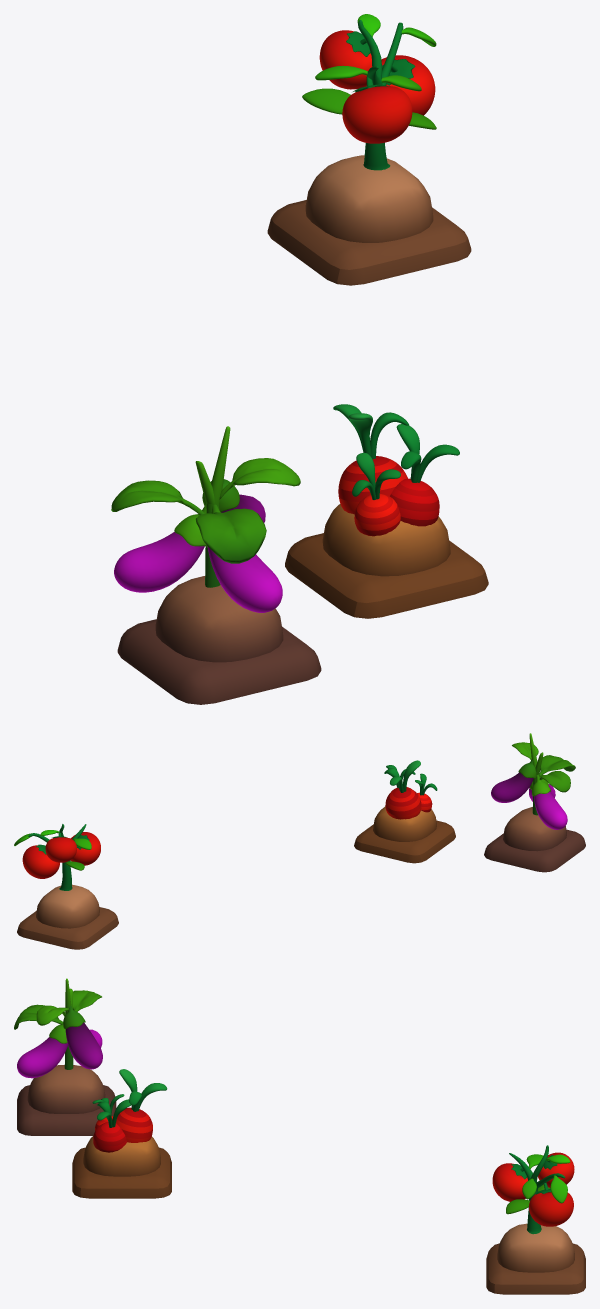
The model's file is 茄子番茄胡萝卜.fbx.
The picture shows the model from 3 angles, top to bottom: view 1: azimuth 30°, elevation 25°; view 2: azimuth 150°, elevation 25°; view 3: azimuth 270°, elevation 25°; orthographic projection. The views are drawn at different scales.
Visible parts, largest first — view 1: soil_045_NewAtlas_0_2, soil_041_NewAtlas_0_2, soil_035_NewAtlas_0_1, soil_034_NewAtlas_0_1, soil_040_NewAtlas_0_2, eggplant_high_002_NewAtlas_0_2, soil_044_NewAtlas_0_2, tomato_high_NewAtlas_0_1, eggplant_high_001_NewAtlas_0_2, tomato_high_002_NewAtlas_0_1, raddish_high_001_NewAtlas_0_2, raddish_high_NewAtlas_0_2 (+5 smaller); view 2: soil_034_NewAtlas_0_1, soil_045_NewAtlas_0_2, soil_041_NewAtlas_0_2, soil_035_NewAtlas_0_1, soil_040_NewAtlas_0_2, soil_044_NewAtlas_0_2, eggplant_high_002_NewAtlas_0_2, raddish_high_NewAtlas_0_2, eggplant_high_001_NewAtlas_0_2, eggplant_high_003_NewAtlas_0_2, tomato_high_NewAtlas_0_1, tomato_high_003_NewAtlas_0_1 (+3 smaller); view 3: soil_034_NewAtlas_0_1, soil_040_NewAtlas_0_2, soil_035_NewAtlas_0_1, soil_045_NewAtlas_0_2, soil_041_NewAtlas_0_2, soil_044_NewAtlas_0_2, tomato_high_NewAtlas_0_1, raddish_high_NewAtlas_0_2, eggplant_high_002_NewAtlas_0_2, eggplant_high_NewAtlas_0_2, eggplant_high_003_NewAtlas_0_2, tomato_high_003_NewAtlas_0_1 (+3 smaller).
Boxes of the visible parts, x1,y1,x2,y2 form: soil_045_NewAtlas_0_2: (285, 533, 488, 618); soil_041_NewAtlas_0_2: (117, 619, 321, 704); soil_035_NewAtlas_0_1: (267, 200, 471, 285); soil_034_NewAtlas_0_1: (305, 155, 433, 242); soil_040_NewAtlas_0_2: (155, 576, 283, 662); eggplant_high_002_NewAtlas_0_2: (111, 426, 300, 587); soil_044_NewAtlas_0_2: (322, 504, 450, 576); tomato_high_NewAtlas_0_1: (302, 14, 436, 170); eggplant_high_001_NewAtlas_0_2: (114, 504, 207, 592); tomato_high_002_NewAtlas_0_1: (342, 75, 412, 143); raddish_high_001_NewAtlas_0_2: (390, 424, 459, 526); raddish_high_NewAtlas_0_2: (333, 404, 408, 514); soil_034_NewAtlas_0_1: (36, 884, 99, 928); soil_045_NewAtlas_0_2: (354, 820, 455, 863); soil_041_NewAtlas_0_2: (484, 829, 585, 872); soil_035_NewAtlas_0_1: (17, 907, 118, 949); soil_040_NewAtlas_0_2: (503, 807, 566, 851); soil_044_NewAtlas_0_2: (373, 806, 436, 841); eggplant_high_002_NewAtlas_0_2: (512, 733, 575, 815); raddish_high_NewAtlas_0_2: (384, 760, 421, 819); eggplant_high_001_NewAtlas_0_2: (532, 775, 567, 829); eggplant_high_003_NewAtlas_0_2: (491, 759, 536, 802); tomato_high_NewAtlas_0_1: (14, 824, 91, 890); tomato_high_003_NewAtlas_0_1: (22, 844, 59, 878); soil_034_NewAtlas_0_1: (497, 1223, 574, 1272); soil_040_NewAtlas_0_2: (27, 1065, 105, 1113); soil_035_NewAtlas_0_1: (486, 1243, 585, 1294); soil_045_NewAtlas_0_2: (72, 1147, 171, 1198); soil_041_NewAtlas_0_2: (17, 1085, 116, 1135); soil_044_NewAtlas_0_2: (83, 1136, 160, 1176); tomato_high_NewAtlas_0_1: (506, 1145, 570, 1234); raddish_high_NewAtlas_0_2: (112, 1069, 167, 1142); eggplant_high_002_NewAtlas_0_2: (14, 978, 101, 1069); eggplant_high_NewAtlas_0_2: (17, 1023, 67, 1078); eggplant_high_003_NewAtlas_0_2: (63, 1006, 102, 1069); tomato_high_003_NewAtlas_0_1: (529, 1183, 573, 1226).
Bounding box in the file's own units: 315 × 98.05 × 364.
Materials: 1 (1 with a texture image).
